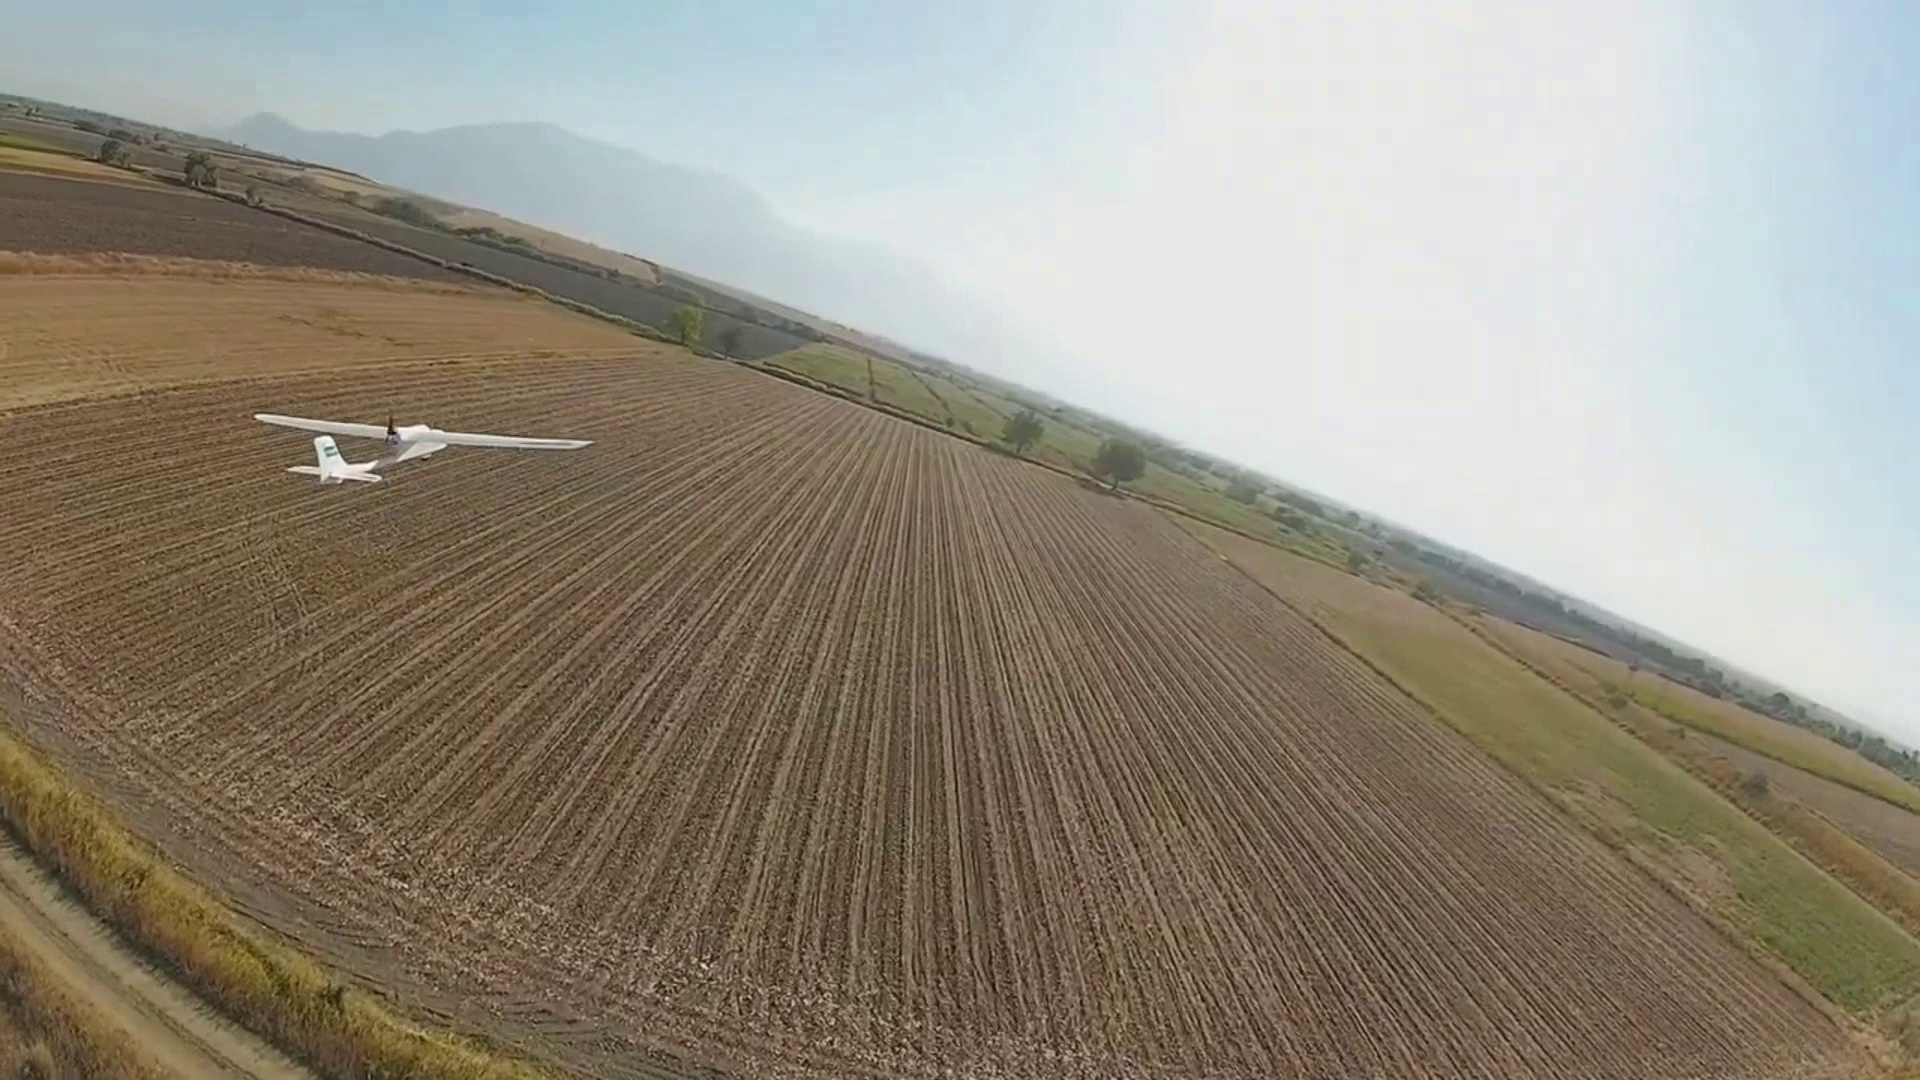airplane: (247, 410, 592, 487), (255, 415, 447, 487)
